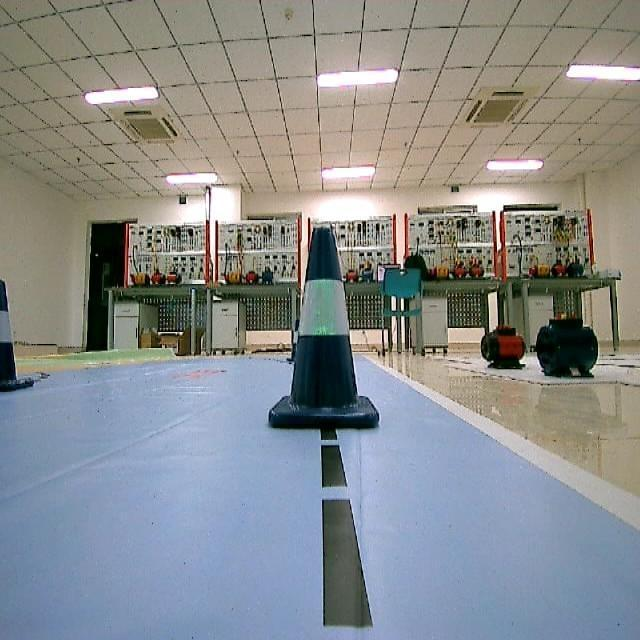obstacle: (261, 222, 388, 442), (0, 278, 41, 396)
